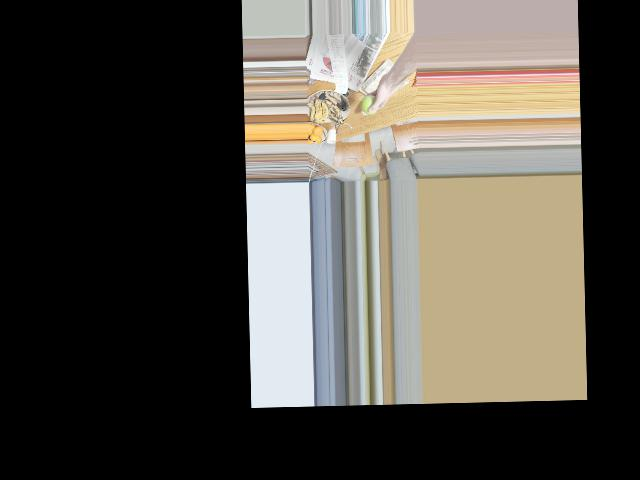apple: (359, 93, 381, 116)
